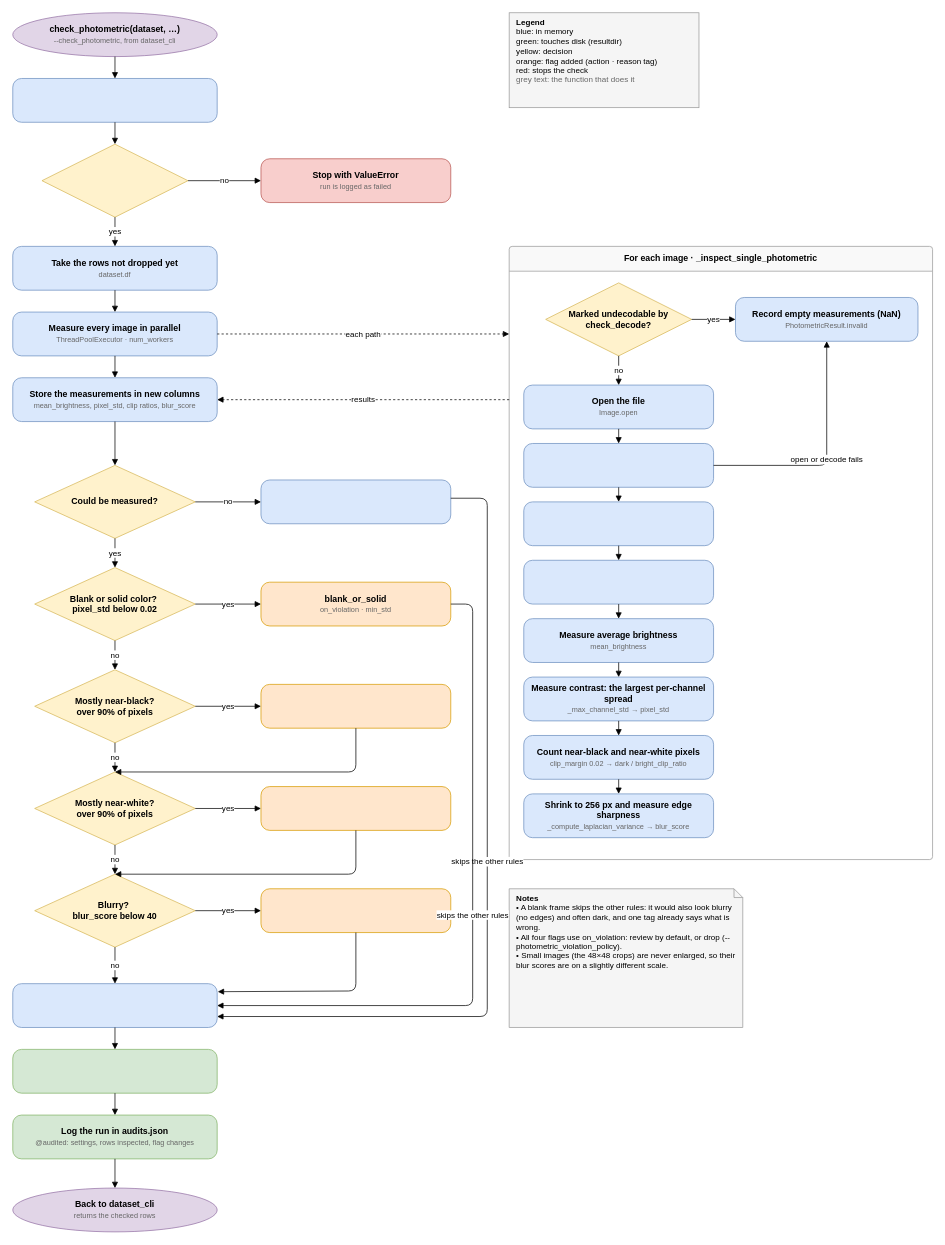
This 945x1245 diagram has some shape labels left out. Here are the shapes that lost their labels. From the top down, the centre of each, then its label:
At [114,100]: "Note the settings and start time @audited".
At [114,180]: "Settings valid?".
At [618,465]: "Decode it, shrinking big images on the way _load_downscaled · 1024 px".
At [355,501]: "No flag corrupt files are check_decode's job".
At [618,523]: "Scale pixels to 0–1 and drop alpha _extract_normalized_rgb_or_gray".
At [618,582]: "Make the gray (luminance) plane _luminance".
At [355,706]: "underexposed on_violation · max_clip_ratio".
At [355,808]: "overexposed on_violation · max_clip_ratio".
At [355,910]: "blurry on_violation · min_blur_score".
At [114,1005]: "Copy the checked rows back into the full manifest write_back".
At [114,1071]: "Save manifest.csv save_manifest".
